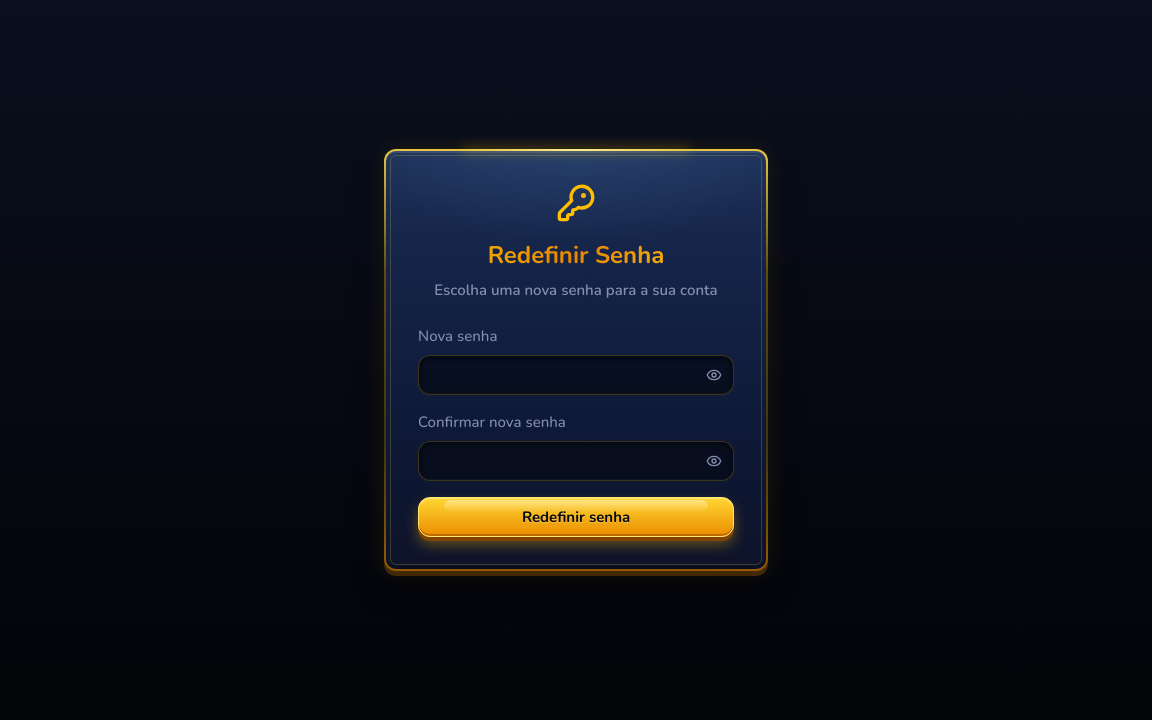
Test: ResetPassword › shows an error message when the password update fails
In the password field labelled "Nova senha": (576, 375) [418, 355, 734, 395], type "senha123"
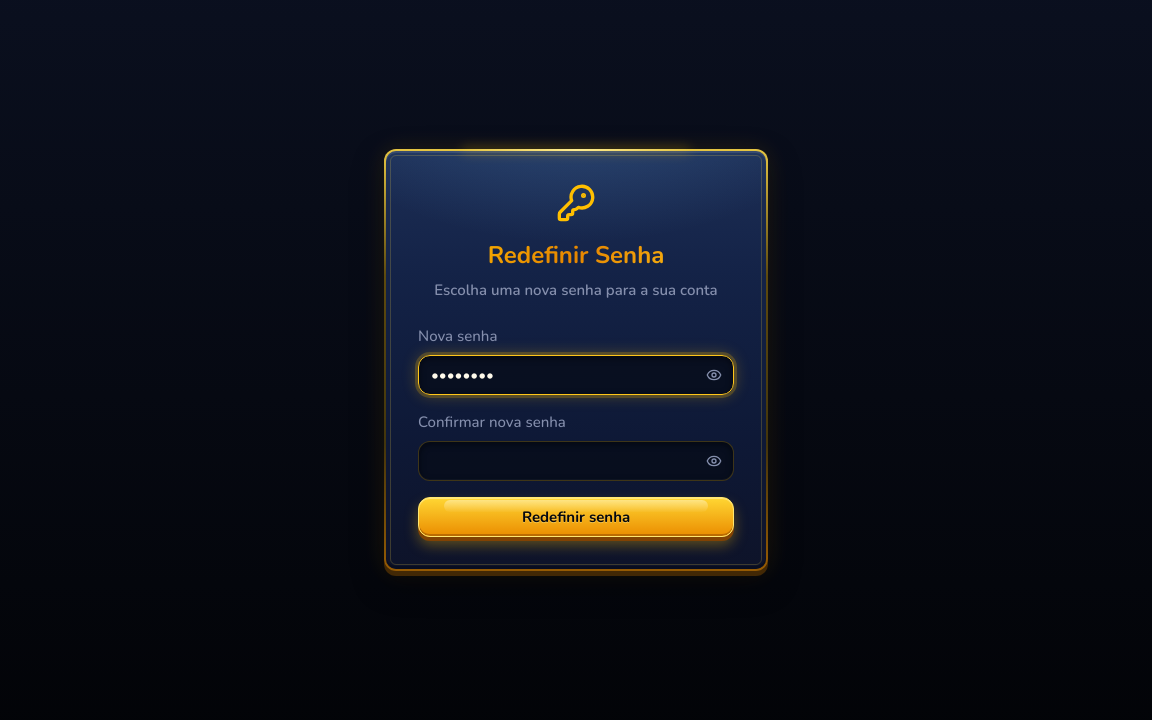
In the password field labelled "Confirmar nova senha": (576, 461) [418, 441, 734, 481], type "senha123"
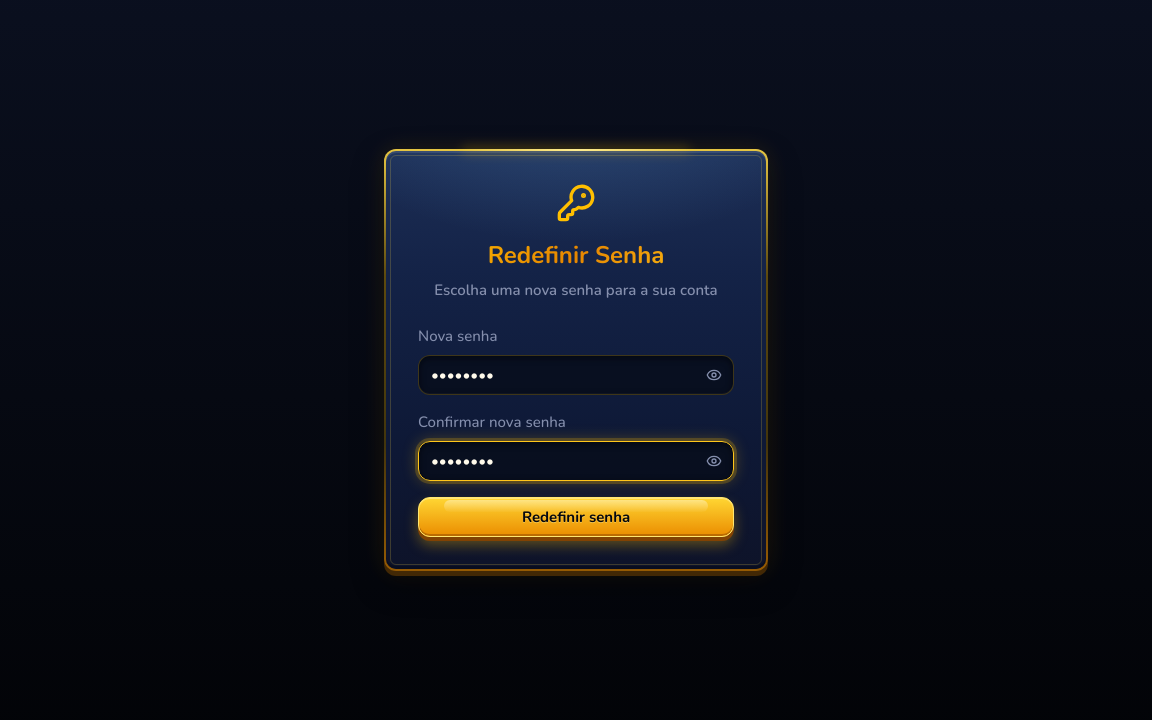
Click the button "Redefinir senha": (576, 517) [418, 497, 734, 537]
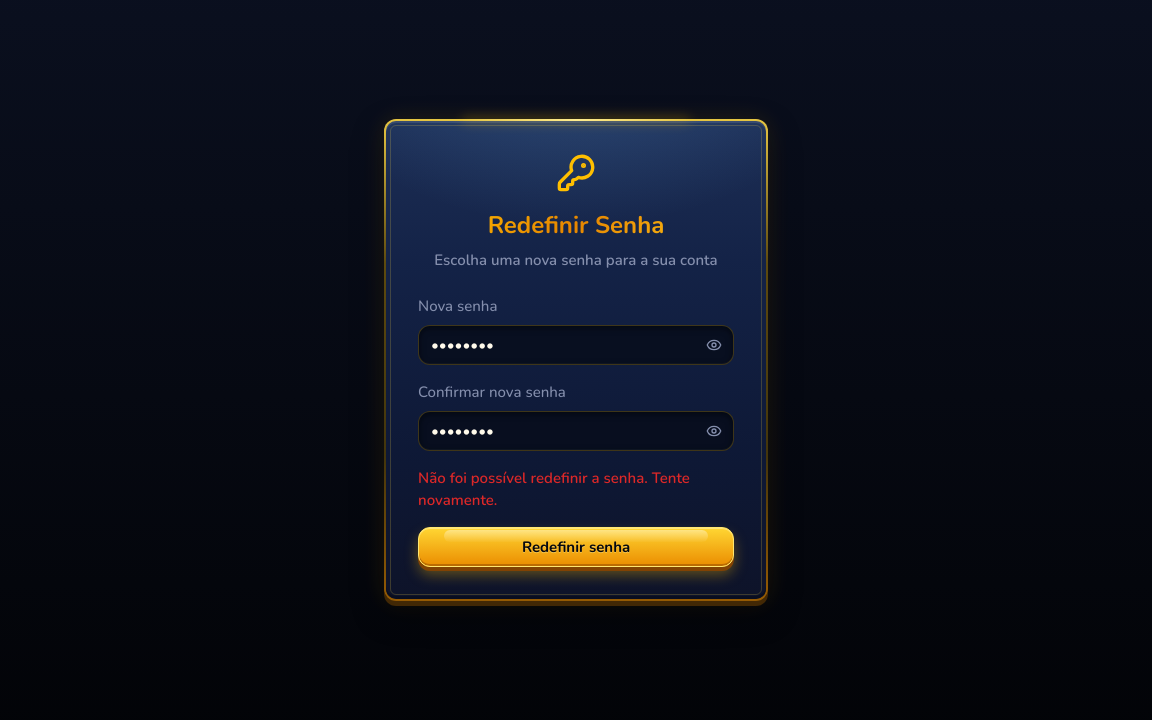
Check: the button "Redefinir senha" is enabled, box [418, 527, 734, 567]
Check: the text "Não foi possível redefinir a senha. Tente novamente." is shown, box [418, 467, 734, 511]
